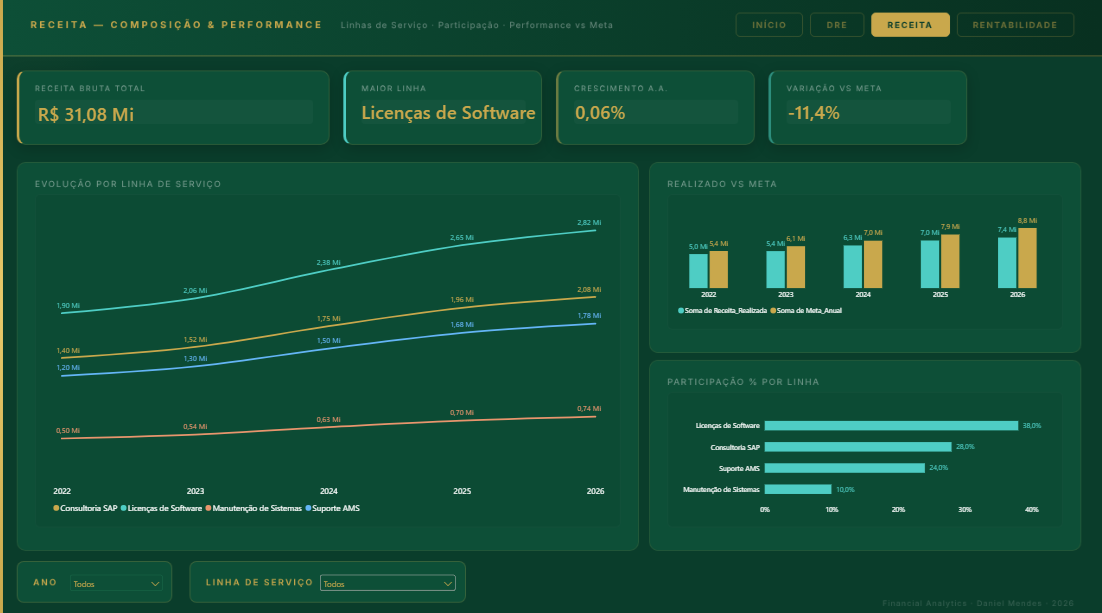

What the dashboard file says about the page in this screenshot:
{"tool":"powerbi","page":{"name":"Receita","canvas":[1920,1080],"ordinal":2},"visuals":[{"type":"cardVisual","fields":{"Data":["_Medidas.Receita Bruta"]},"box":[56.1,146.6,354.7,86.9],"z":0},{"type":"cardVisual","fields":{"Data":["Min(vw_Receita_Composicao.Linha_Servico)"]},"box":[617.5,146.1,341.7,86.4],"z":1000},{"type":"cardVisual","fields":{"Data":["_Medidas.Crescimento aa"]},"box":[990.1,146.1,354.7,86.9],"z":2000},{"type":"cardVisual","fields":{"Data":["_Medidas.Atingimento Meta"]},"box":[1358.5,146.1,354.7,86.9],"z":3000},{"type":"lineChart","fields":{"Category":["vw_Receita_Composicao.ano"],"Series":["vw_Receita_Composicao.Linha_Servico"],"Y":["Sum(vw_Receita_Composicao.Receita)"]},"box":[82.3,354,990.1,564],"z":4000},{"type":"clusteredColumnChart","fields":{"Category":["vw_Performance_vs_Meta.ano"],"Y":["Sum(vw_Performance_vs_Meta.Receita_Realizada)","Sum(vw_Performance_vs_Meta.Meta_Anual)"]},"box":[1167.1,354,675.1,220.2],"z":5000},{"type":"clusteredBarChart","fields":{"Category":["vw_Receita_Composicao.Linha_Servico"],"Y":["Avg(vw_Receita_Composicao.Participacao_Pct)"]},"box":[1167.1,697.8,675.1,220.2],"z":5001},{"type":"actionButton","box":[1286.7,29,108.6,39.8],"z":5002},{"type":"actionButton","box":[1416.1,28.8,88.5,39.1],"z":5003},{"type":"actionButton","box":[1679.4,29,181,39.8],"z":5004},{"type":"slicer","fields":{"Values":["vw_Receita_Composicao.ano"]},"box":[123.5,998.3,170.8,49.4],"z":5005},{"type":"slicer","fields":{"Values":["vw_Receita_Composicao.Linha_Servico"]},"box":[557.8,998.3,244.9,49.4],"z":5006}]}

Visuals, with their boxes in screenshot pixels (x1, y1, x2, y2), scaled from the page's 1920x1080 canvas onto the 1102x613 screenshot:
cardVisual - _Medidas.Receita Bruta: locate(32, 83, 236, 133)
cardVisual - Min(vw_Receita_Composicao.Linha_Servico): locate(354, 83, 551, 132)
cardVisual - _Medidas.Crescimento aa: locate(568, 83, 772, 132)
cardVisual - _Medidas.Atingimento Meta: locate(780, 83, 983, 132)
lineChart - vw_Receita_Composicao.ano x vw_Receita_Composicao.Linha_Servico: locate(47, 201, 616, 521)
clusteredColumnChart - vw_Performance_vs_Meta.ano x Sum(vw_Performance_vs_Meta.Receita_Realizada): locate(670, 201, 1057, 326)
clusteredBarChart - vw_Receita_Composicao.Linha_Servico x Avg(vw_Receita_Composicao.Participacao_Pct): locate(670, 396, 1057, 521)
actionButton: locate(739, 16, 801, 39)
actionButton: locate(813, 16, 864, 39)
actionButton: locate(964, 16, 1068, 39)
slicer - vw_Receita_Composicao.ano: locate(71, 567, 169, 595)
slicer - vw_Receita_Composicao.Linha_Servico: locate(320, 567, 461, 595)
